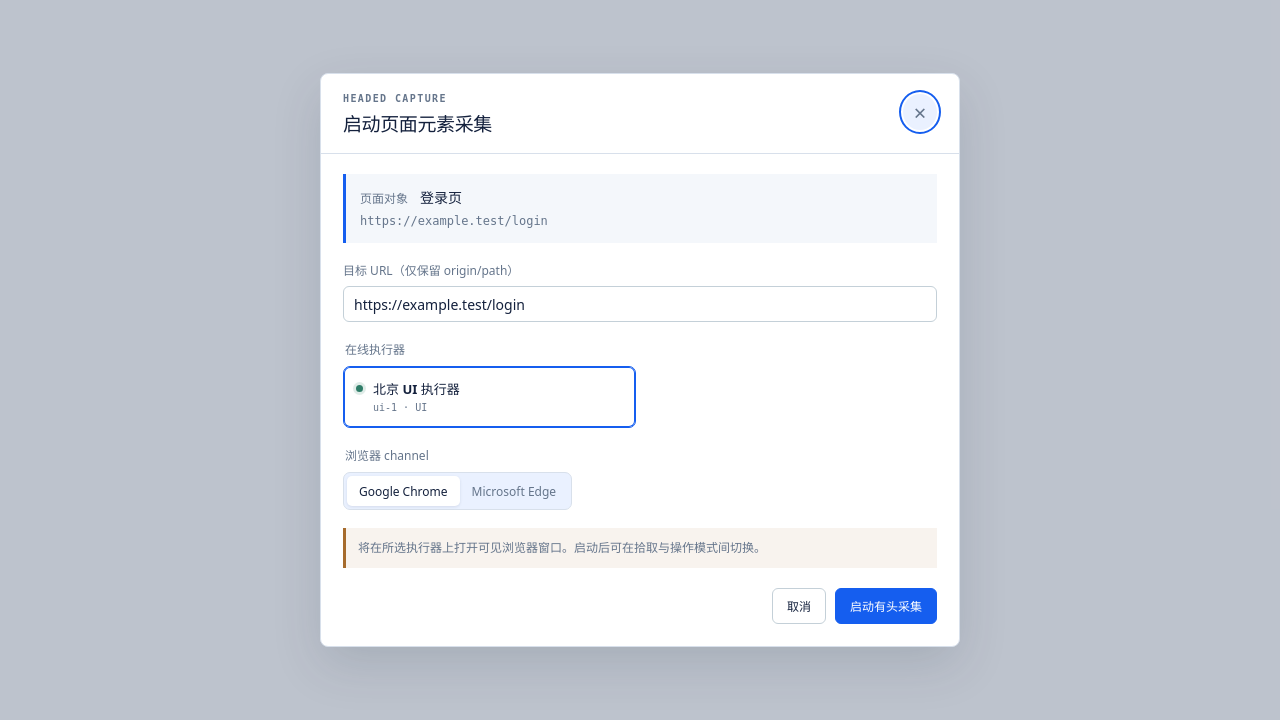
Test: ElementCaptureLauncher › 启动失败保留选择并显示错误
What coordinates should you click on to do the following:
click the button "Microsoft Edge"
I would click on:
 (514, 491)
Its box is [460, 476, 568, 506].
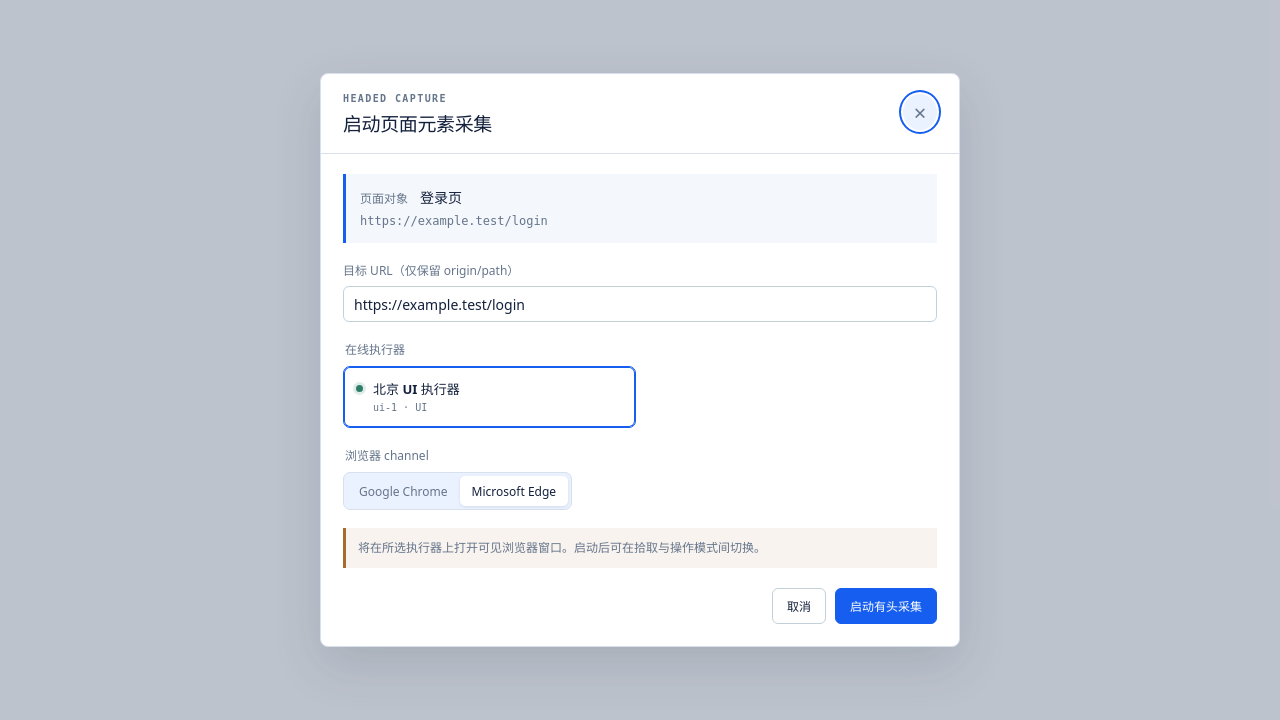
What coordinates should you click on to do the following:
click the button "启动有头采集"
I would click on:
 (886, 606)
Its box is [835, 588, 937, 624].
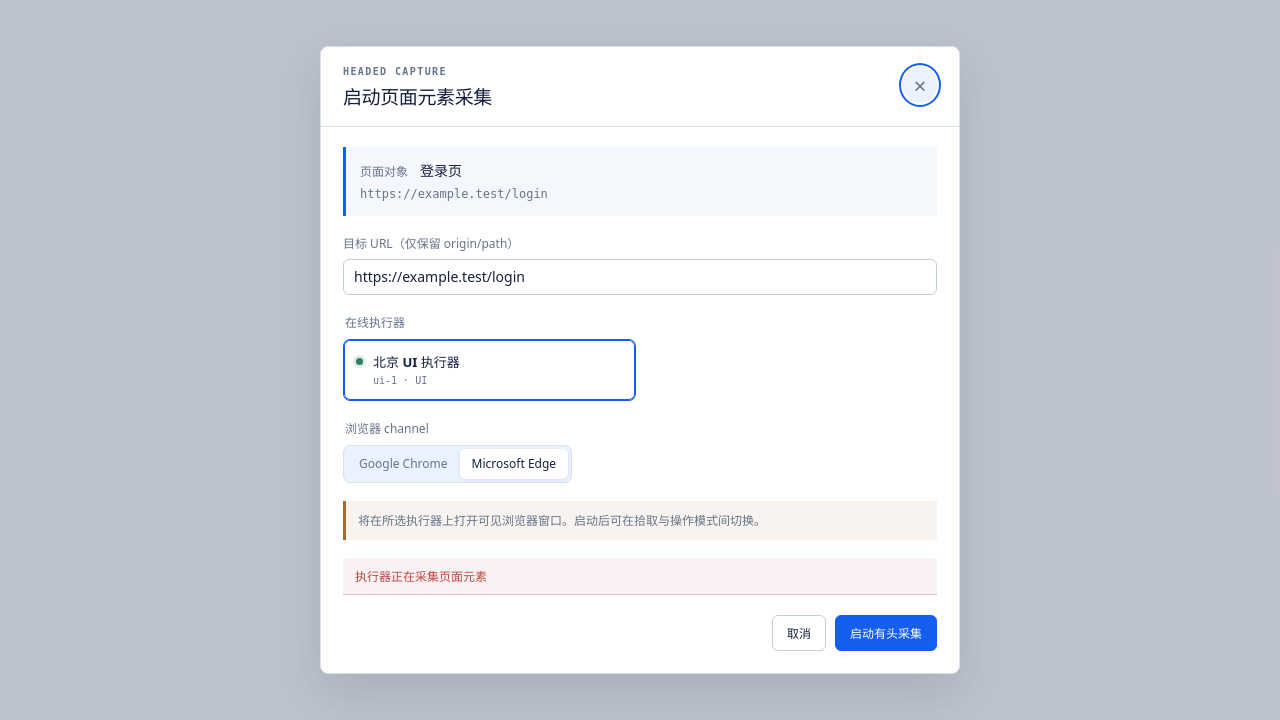
Expected: the message reads "执行器正在采集页面元素", [355, 568, 487, 585]
